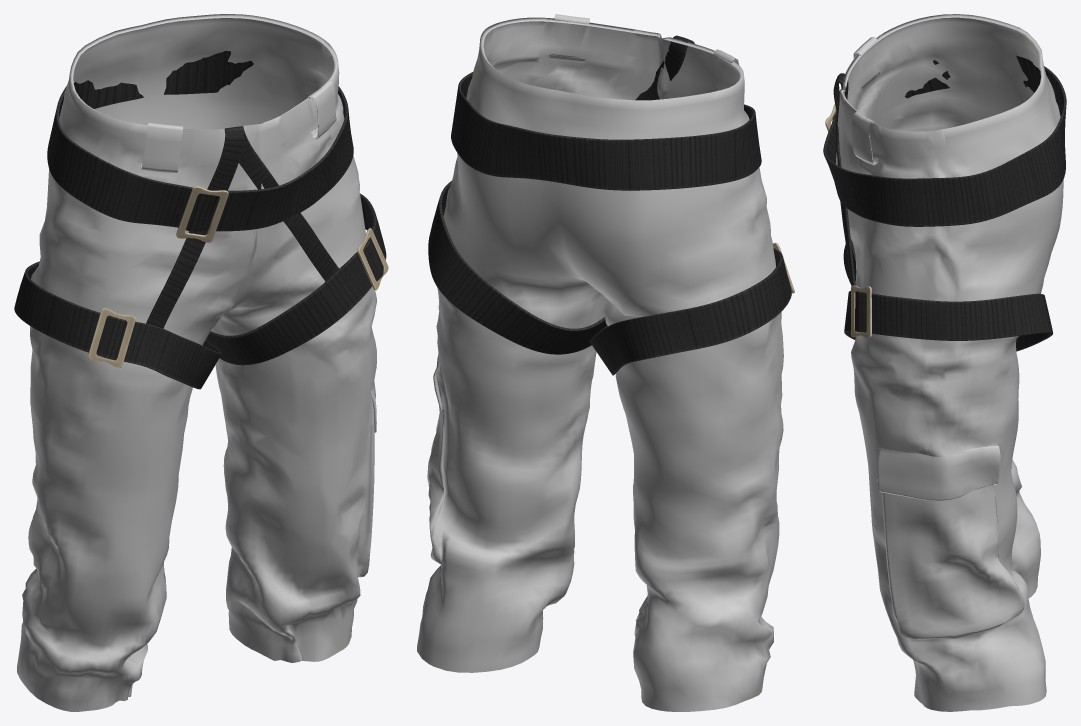
File: short 3.fbx
The picture shows the model from 3 angles, left to right: view 1: azimuth 30°, elevation 25°; view 2: azimuth 150°, elevation 25°; view 3: azimuth 270°, elevation 25°; orthographic projection. The views are drawn at different scales.
Parts seen in each view (by area): view 1: short_3; view 2: short_3; view 3: short_3.
Boxes of the visible parts, x1,y1,x2,y2 form: short_3: (14,14,388,711); short_3: (417,14,794,711); short_3: (823,14,1066,711).
Size of the model in its own units: 39.41 by 68.55 by 25.96.
